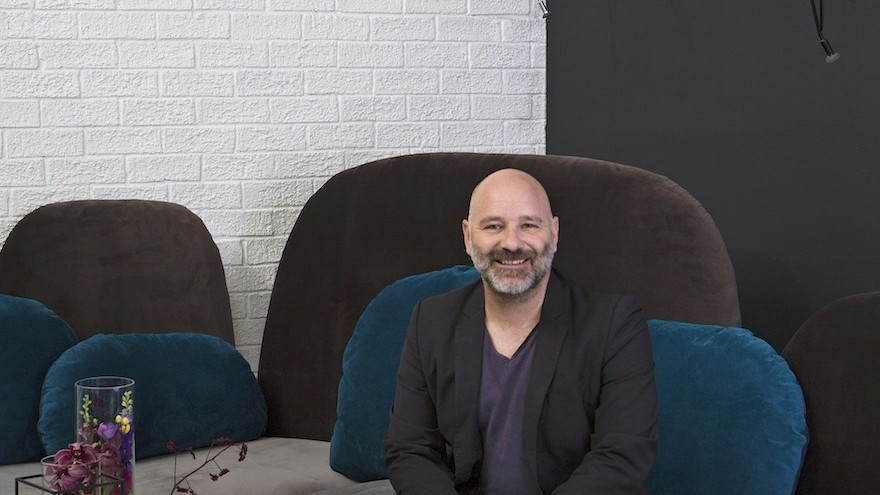face_no_mask: (462, 167, 560, 294)
